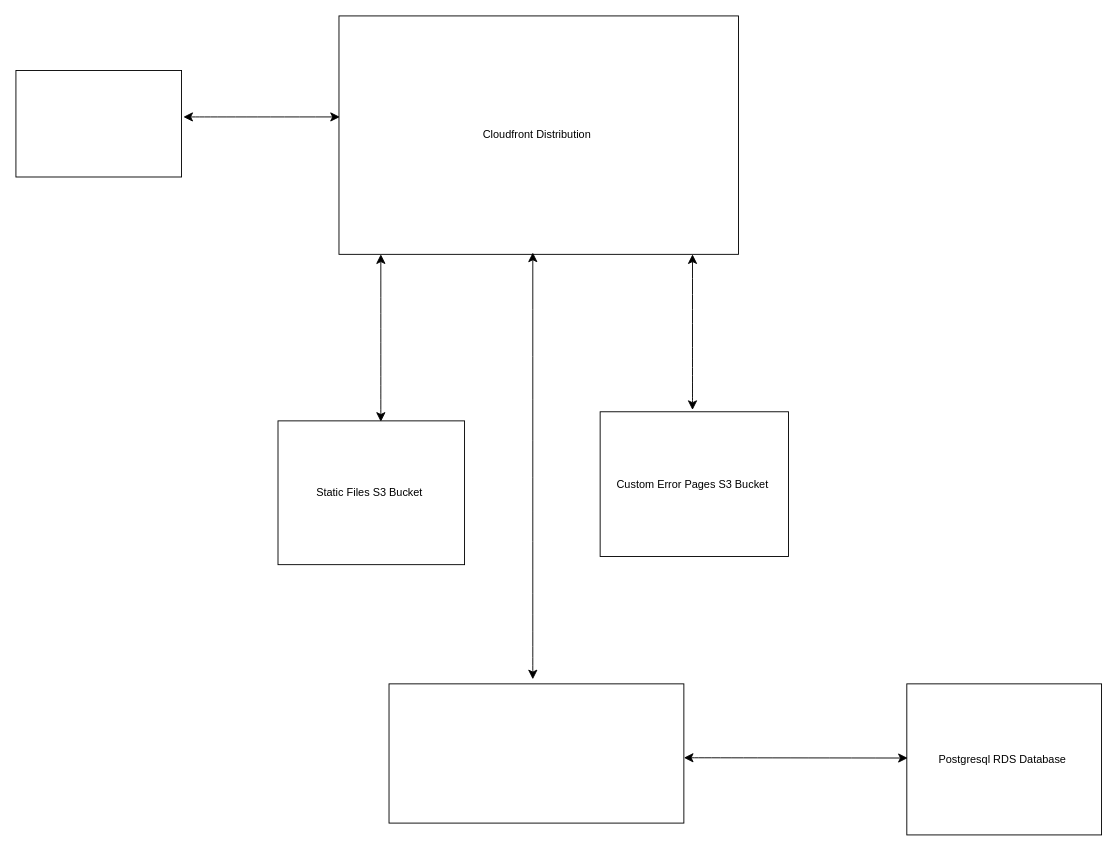
Image size: 1117x851. Some labels were removed from this diagram. The box of each missing label's shape, as (x1, y1, x2, y2) in pixels:
EC2 Nginx/Django App: (388, 683, 684, 823)
User (e.g. Browser): (15, 70, 182, 177)
